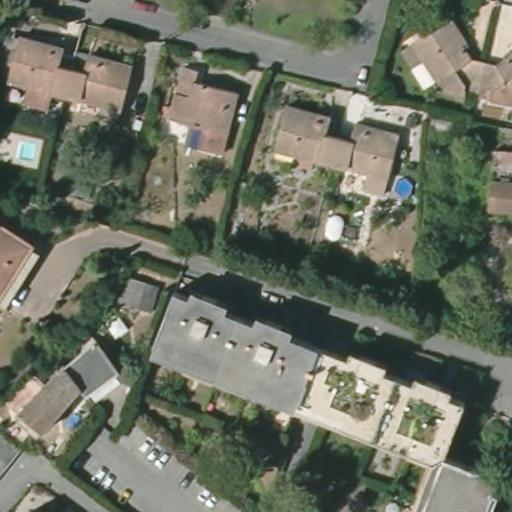pool: (10, 136, 40, 162), (394, 173, 415, 200)
